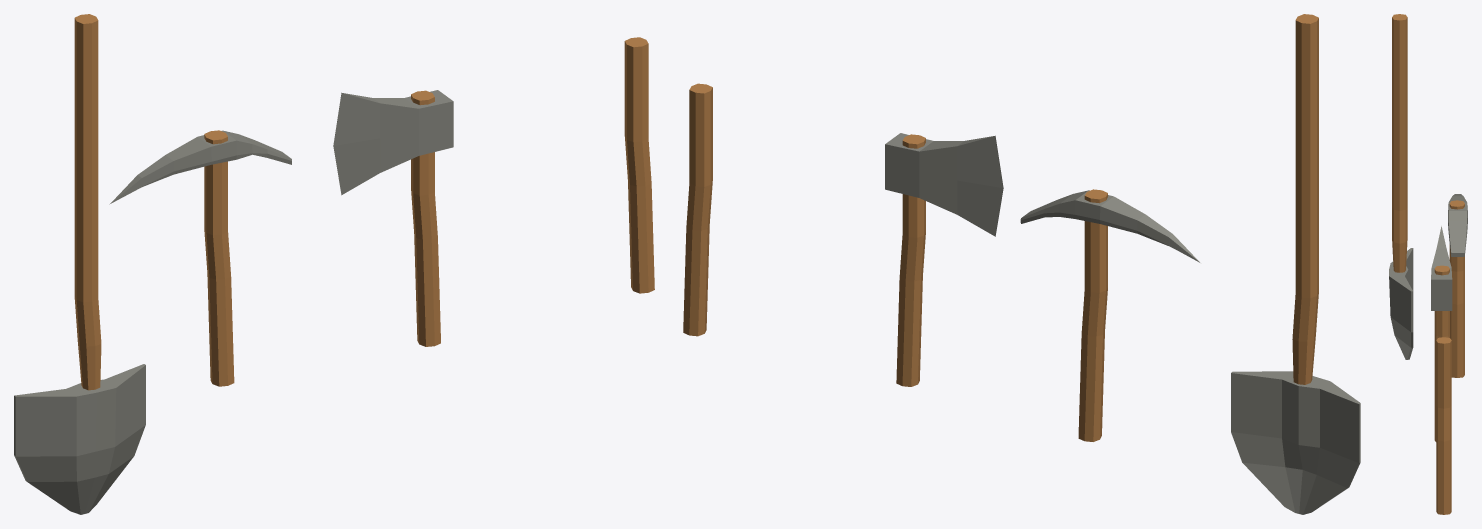
The model's file is Tools.fbx.
3 renders of one model, left to right at view 1: azimuth 30°, elevation 25°; view 2: azimuth 150°, elevation 25°; view 3: azimuth 270°, elevation 25°, orthographic. The views are drawn at different scales.
Visible parts, largest first — view 1: Cube.007, Axe, Pickaxe, Handle; view 2: Cube.007, Axe, Pickaxe, Handle; view 3: Cube.007, Pickaxe, Handle, Axe.
Part boxes in pixels (x1,y1,x2,y2): Cube.007: (14,14,145,514); Axe: (333,90,453,346); Pickaxe: (109,130,291,386); Handle: (624,37,654,293); Cube.007: (1231,14,1360,514); Axe: (885,133,1003,386); Pickaxe: (1020,189,1199,441); Handle: (683,83,712,336); Cube.007: (1389,14,1413,359); Pickaxe: (1448,194,1467,377); Handle: (1436,337,1451,514); Axe: (1431,226,1452,441).
Size of the model in its own units: 8.3 by 5.98 by 1.26.
